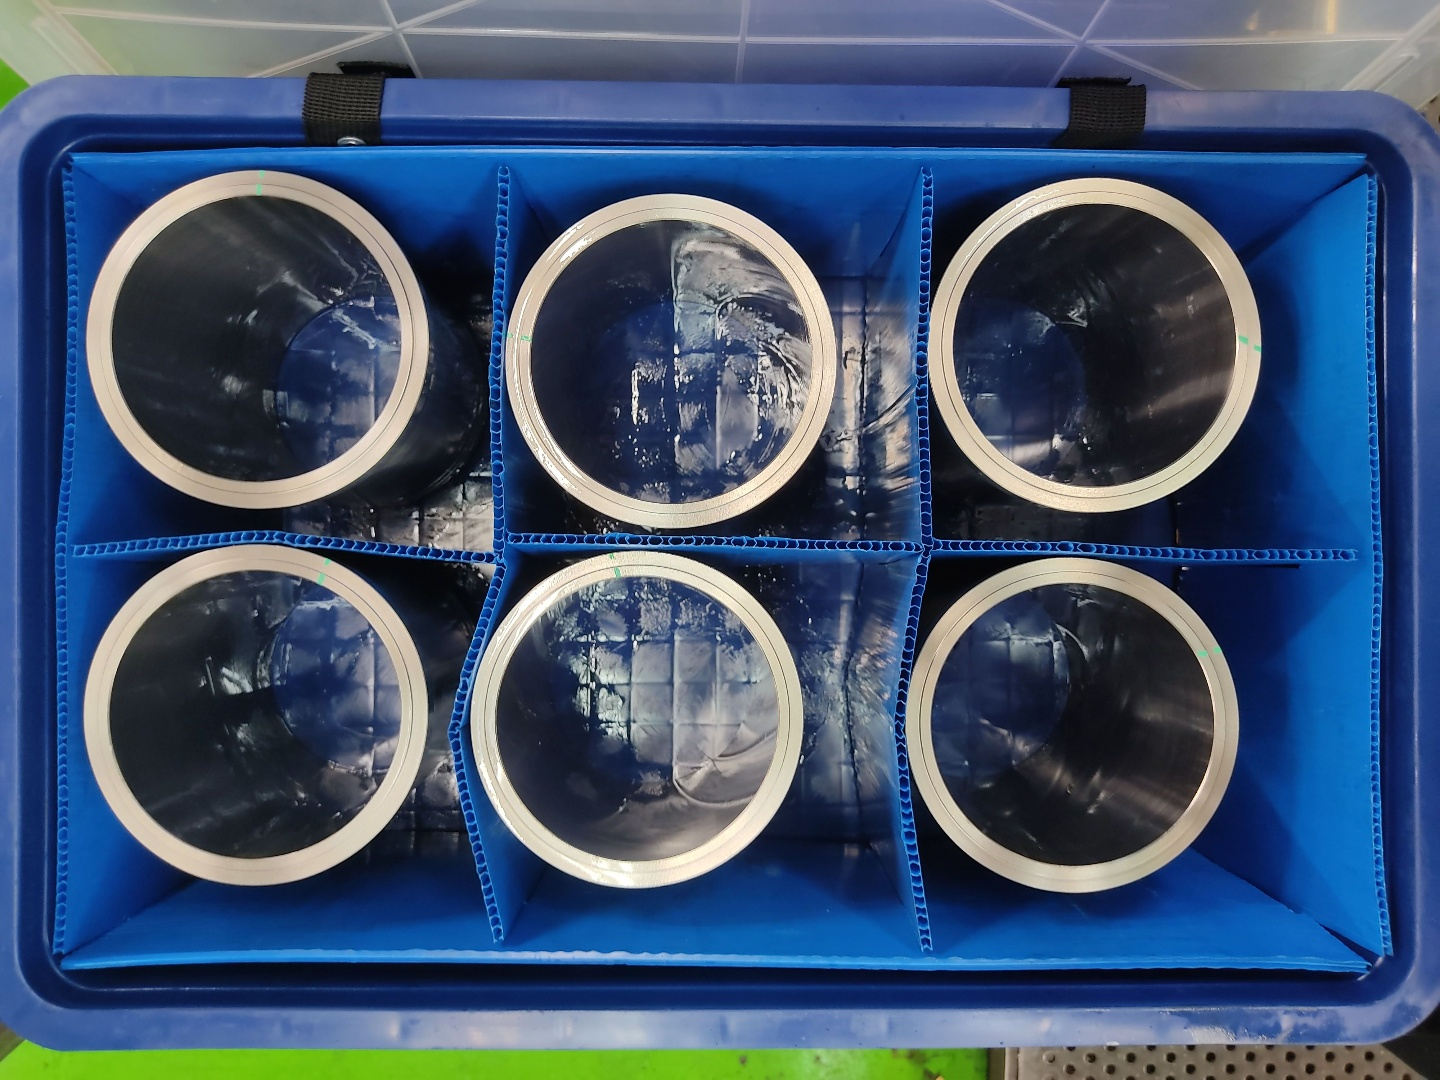cylinder: (84, 164, 434, 515), (79, 542, 431, 892), (920, 172, 1267, 516), (466, 547, 810, 894), (903, 550, 1240, 900), (505, 187, 842, 528)
